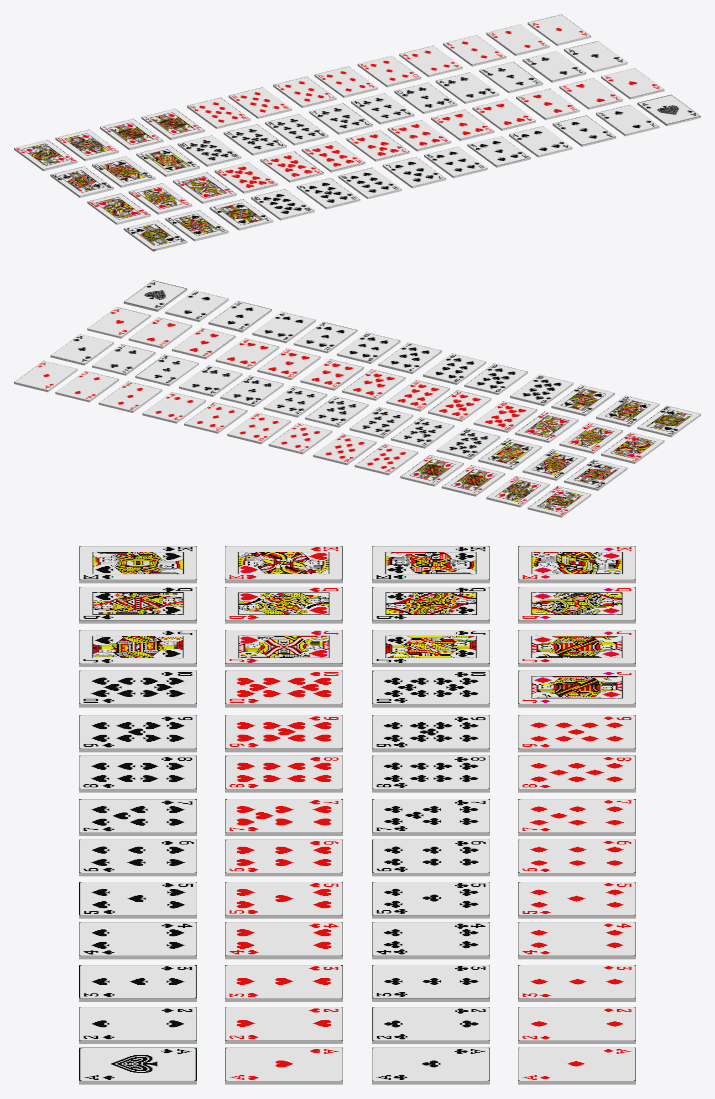
File: Solitaire new.fbx
The picture shows the model from 3 angles, top to bottom: view 1: azimuth 30°, elevation 25°; view 2: azimuth 150°, elevation 25°; view 3: azimuth 270°, elevation 25°; orthographic projection. The views are drawn at different scales.
Parts seen in each view (by area): view 1: Cube.006, Cube.004, Cube.047, Cube.002, Cube.010, Cube.014, Cube.016, Cube.018, Cube.021, Cube.022, Cube.024, Cube.025 (+40 smaller); view 2: Cube.045, Cube.008, Cube.043, Cube.007, Cube.013, Cube.014, Cube.016, Cube.022, Cube.024, Cube.027, Cube.029, Cube.031 (+40 smaller); view 3: Cube, Cube.003, Cube.004, Cube.005, Cube.007, Cube.009, Cube.012, Cube.013, Cube.016, Cube.017, Cube.018, Cube.020 (+40 smaller).
Boxes of the visible parts, bbox=[...] form: Cube.006: bbox=[382, 157, 446, 188]; Cube.004: bbox=[296, 178, 360, 209]; Cube.047: bbox=[357, 56, 421, 87]; Cube.002: bbox=[209, 199, 273, 230]; Cube.010: bbox=[552, 115, 616, 146]; Cube.014: bbox=[128, 183, 192, 214]; Cube.016: bbox=[214, 162, 278, 193]; Cube.018: bbox=[301, 141, 365, 172]; Cube.021: bbox=[431, 109, 494, 140]; Cube.022: bbox=[472, 99, 535, 130]; Cube.024: bbox=[559, 78, 622, 109]; Cube.025: bbox=[601, 68, 664, 99]; Cube.045: bbox=[268, 423, 332, 454]; Cube.008: bbox=[293, 322, 357, 353]; Cube.043: bbox=[354, 444, 418, 475]; Cube.007: bbox=[337, 332, 400, 363]; Cube.013: bbox=[601, 432, 664, 463]; Cube.014: bbox=[559, 422, 622, 453]; Cube.016: bbox=[473, 401, 537, 432]; Cube.022: bbox=[215, 338, 279, 369]; Cube.024: bbox=[128, 317, 192, 348]; Cube.027: bbox=[522, 449, 586, 480]; Cube.029: bbox=[436, 428, 500, 459]; Cube.031: bbox=[349, 407, 413, 438]; Cube: bbox=[79, 546, 196, 583]; Cube.003: bbox=[79, 670, 196, 707]; Cube.004: bbox=[79, 715, 196, 752]; Cube.005: bbox=[79, 755, 196, 792]; Cube.007: bbox=[79, 839, 196, 876]; Cube.009: bbox=[79, 922, 196, 959]; Cube.012: bbox=[79, 1047, 196, 1084]; Cube.013: bbox=[225, 546, 342, 583]; Cube.016: bbox=[225, 670, 342, 707]; Cube.017: bbox=[225, 715, 342, 752]; Cube.018: bbox=[225, 755, 342, 792]; Cube.020: bbox=[225, 839, 342, 876].
Bounding box in the file's own units: 6426 × 20 × 2830.
Materials: 1 (1 with a texture image).
